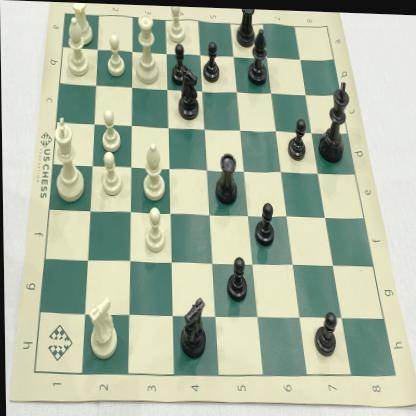black-bishop: (246, 22, 268, 87)
black-king: (316, 74, 353, 163)
black-knight: (175, 286, 209, 361), (172, 61, 204, 121)
black-pawn: (311, 303, 338, 357), (251, 195, 277, 249), (222, 250, 249, 302), (166, 39, 190, 86), (285, 112, 308, 161), (199, 37, 223, 83)
black-rook: (212, 146, 241, 207), (231, 7, 258, 49)
white-bishop: (136, 136, 168, 204), (63, 11, 92, 78)
white-king: (49, 110, 88, 208)
white-knight: (82, 287, 121, 366)
white-pawn: (96, 146, 125, 201), (103, 26, 129, 80), (143, 202, 168, 257), (98, 104, 123, 158), (166, 5, 188, 47)
white-queen: (131, 6, 163, 88)
white-rook: (68, 2, 96, 48)
